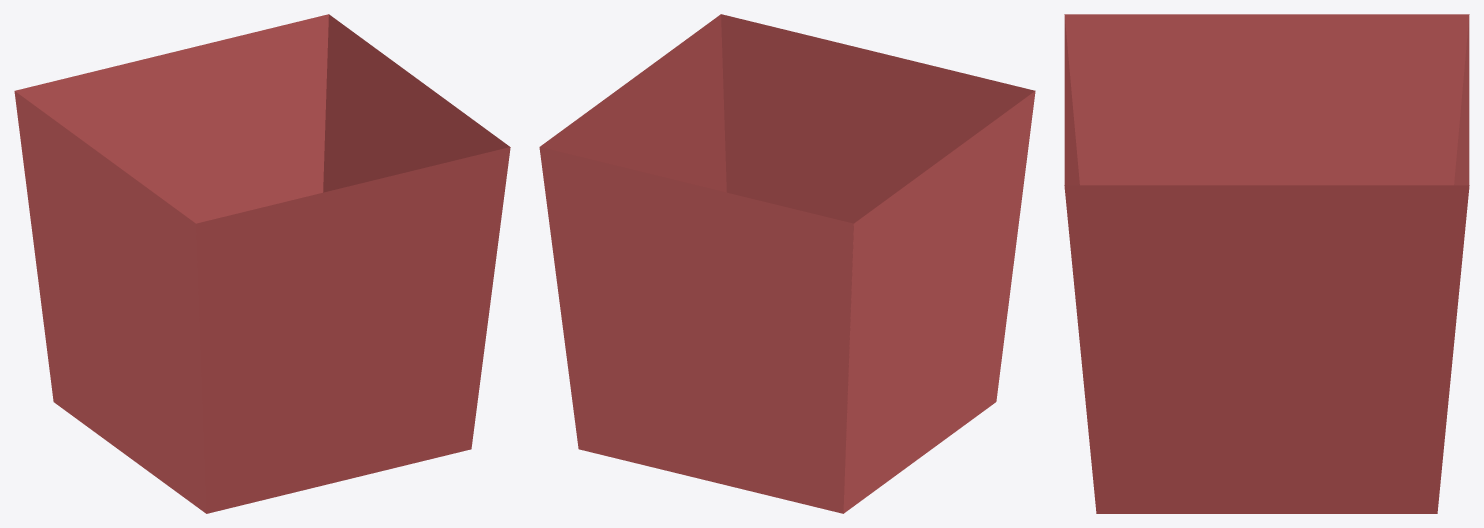
The model's file is koopa2_map.glb.
3 views of the same model, side by side, from view 1: azimuth 30°, elevation 25°; view 2: azimuth 150°, elevation 25°; view 3: azimuth 270°, elevation 25° (orthographic). The views are drawn at different scales.
Parts seen in each view (by area): view 1: koopa2_map_col; view 2: koopa2_map_col; view 3: koopa2_map_col.
Part boxes in pixels (x1=…): koopa2_map_col: x1=14, y1=14, x2=510, y2=513; koopa2_map_col: x1=539, y1=14, x2=1035, y2=513; koopa2_map_col: x1=1064, y1=14, x2=1469, y2=513.
Bounding box in the file's own units: 19.03 × 17.71 × 19.03.
